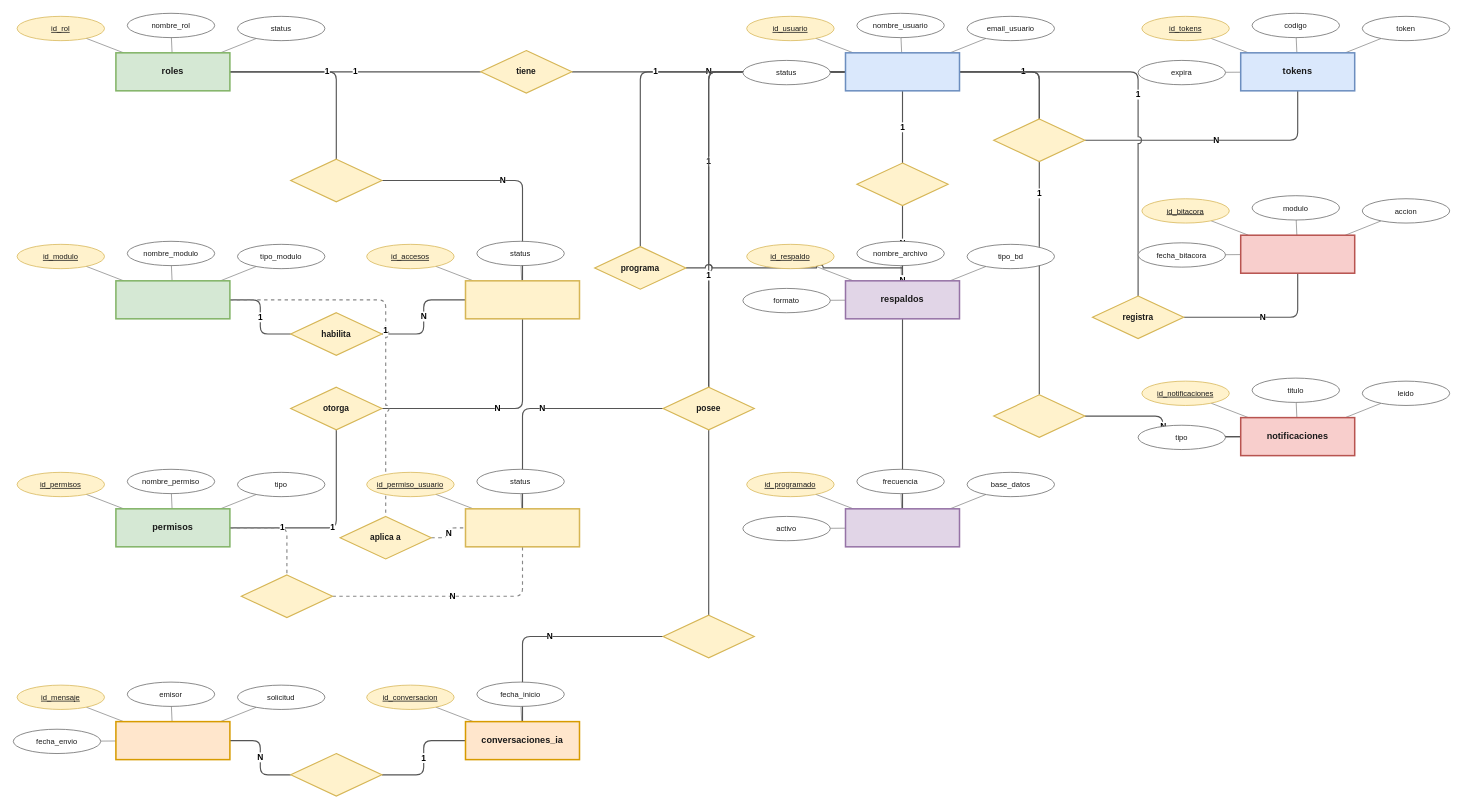
This 1463x810 diagram has some shape labels left out. The centre of each missing label's shape, as x and y in pixels:
accesos: [522,299]
asigna: [336,180]
bitacoras: [1297,254]
concede: [286,596]
contiene: [336,774]
crea: [902,184]
genera: [1039,140]
inicia: [708,636]
mensajes_ia: [172,740]
modulos: [172,299]
permisos_usuario: [522,527]
recibe: [1039,416]
respaldo_programado: [902,527]
usuarios: [902,71]
